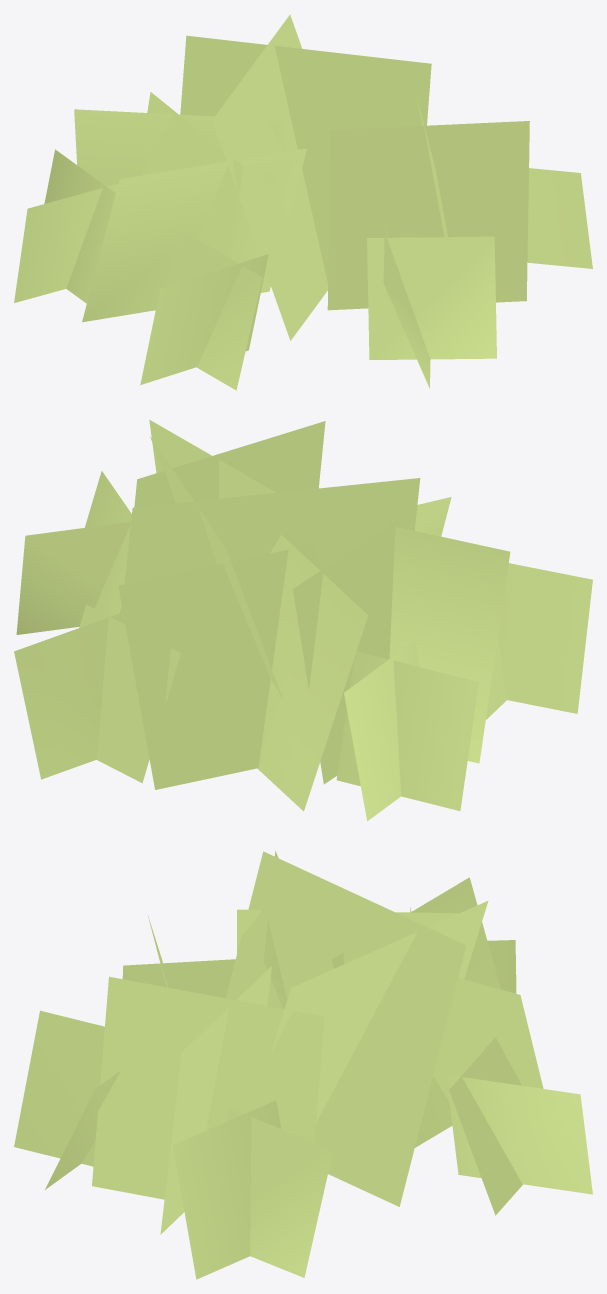
Rendered from Grass_Patch.fbx.
3 renders of one model, top to bottom at view 1: azimuth 30°, elevation 25°; view 2: azimuth 150°, elevation 25°; view 3: azimuth 270°, elevation 25°, orthographic. The views are drawn at different scales.
Visible parts, largest first — view 1: Grass_Patch; view 2: Grass_Patch; view 3: Grass_Patch.
Boxes of the visible parts, x1,y1,x2,y2 form: Grass_Patch: [14, 14, 592, 390]; Grass_Patch: [14, 419, 592, 820]; Grass_Patch: [14, 850, 592, 1279].
Size of the model in its own units: 113 by 49.88 by 108.
